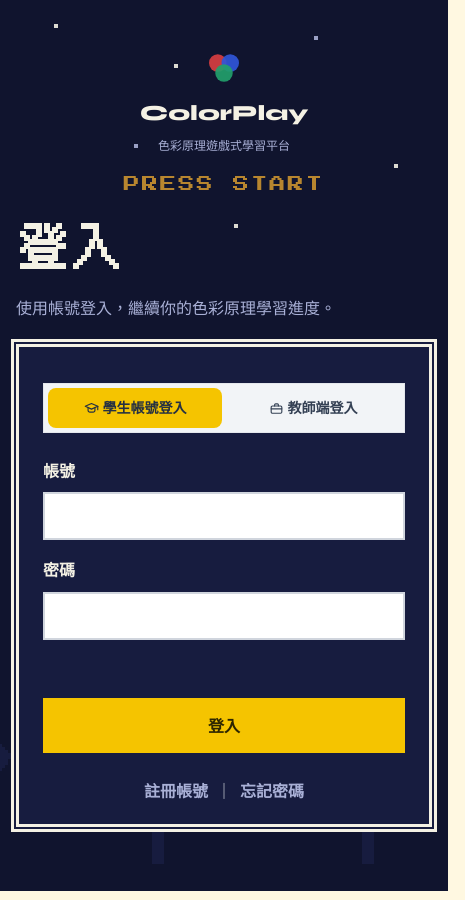
LoginPage › groups labeled inputs and one primary submit action
What coordinates should you click on to do the following:
click the button "登入"
I would click on:
 (224, 725)
Its box is [43, 698, 405, 753].
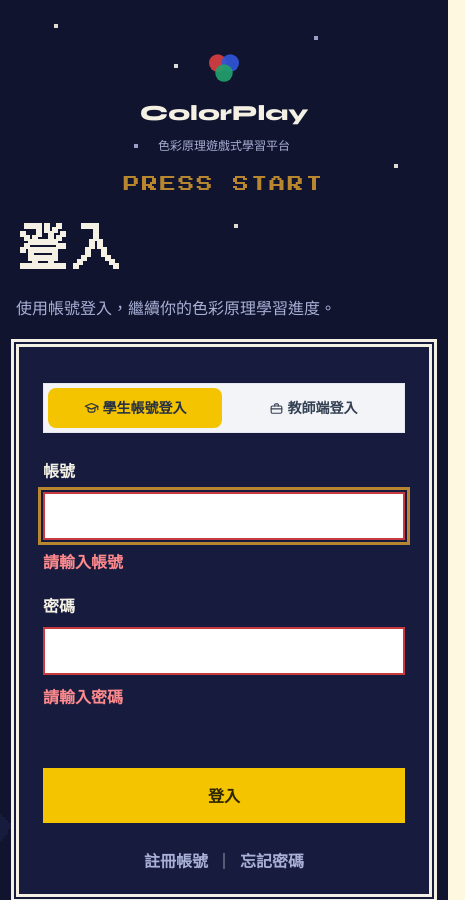
Now the text "請輸入帳號" is shown, box [43, 549, 123, 573]
